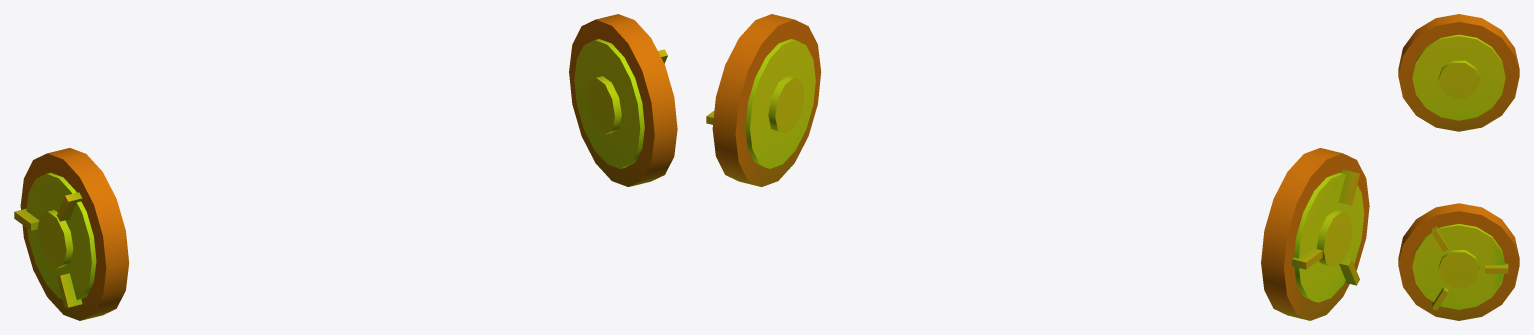
File: RoboTank_wheel0.glb
3 views of the same model, side by side, from view 1: azimuth 30°, elevation 25°; view 2: azimuth 150°, elevation 25°; view 3: azimuth 270°, elevation 25° (orthographic). The views are drawn at different scales.
Visible parts, largest first — view 1: RoboTank_wheel0; view 2: RoboTank_wheel0; view 3: RoboTank_wheel0.
Boxes of the visible parts, x1=… form: RoboTank_wheel0: x1=14, y1=14, x2=677, y2=320; RoboTank_wheel0: x1=706, y1=14, x2=1369, y2=320; RoboTank_wheel0: x1=1398, y1=14, x2=1519, y2=320.
Size of the model in its own units: 1.68 by 0.416 by 0.416.
